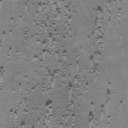oxide scale of temperature system: (14, 97, 72, 126), (90, 6, 104, 72), (40, 20, 67, 54), (31, 67, 61, 90), (37, 0, 71, 14), (68, 74, 80, 88), (88, 111, 94, 122), (106, 88, 110, 104), (0, 65, 5, 74), (24, 48, 28, 55)
